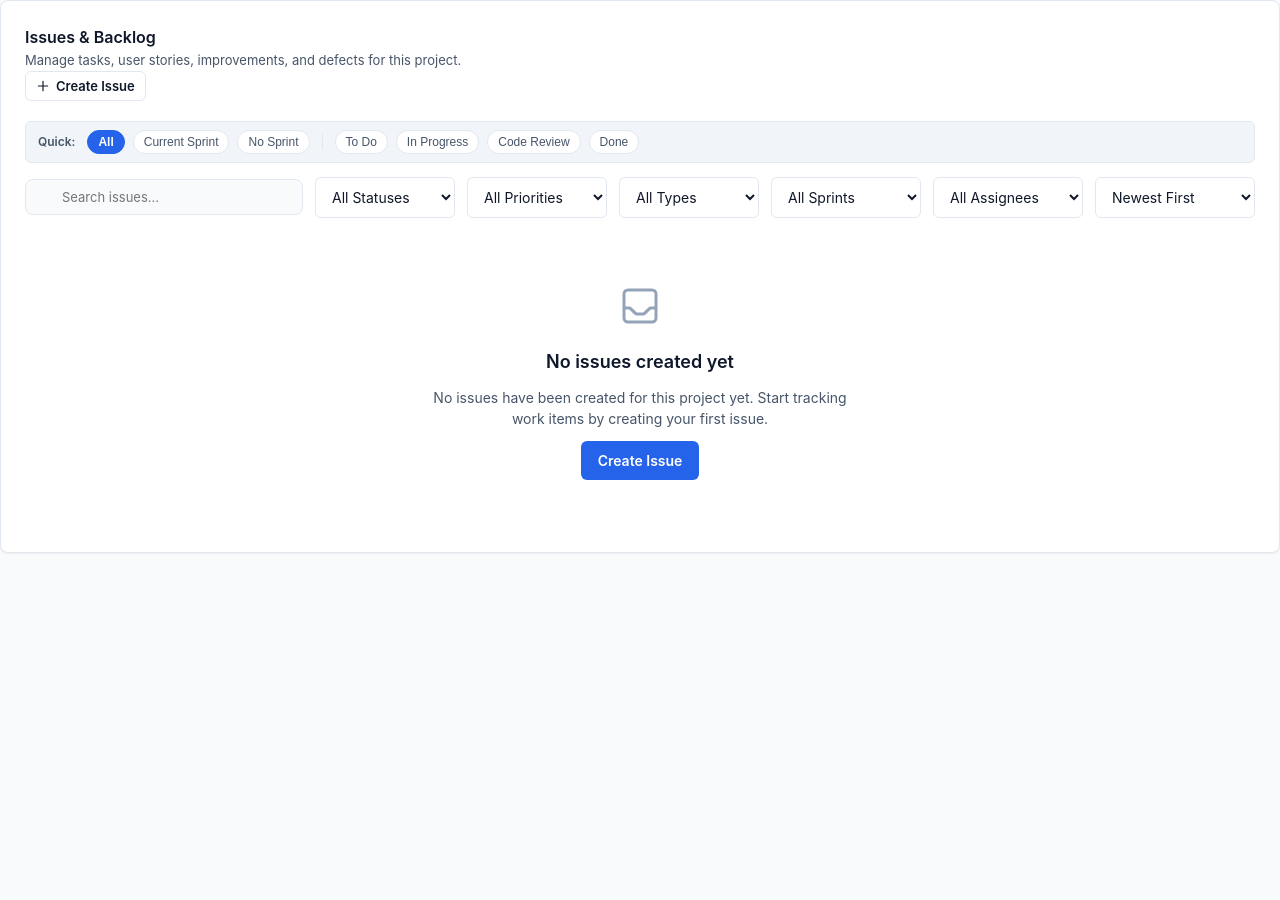
IssueList Component › opens create modal, creates an issue, and refreshes the list
The image size is (1280, 900).
Check: the heading "No issues created yet" is shown, box [546,348,734,374]
Click the button with id "btn-create-issue" at (85, 86), box [25,70,146,100]
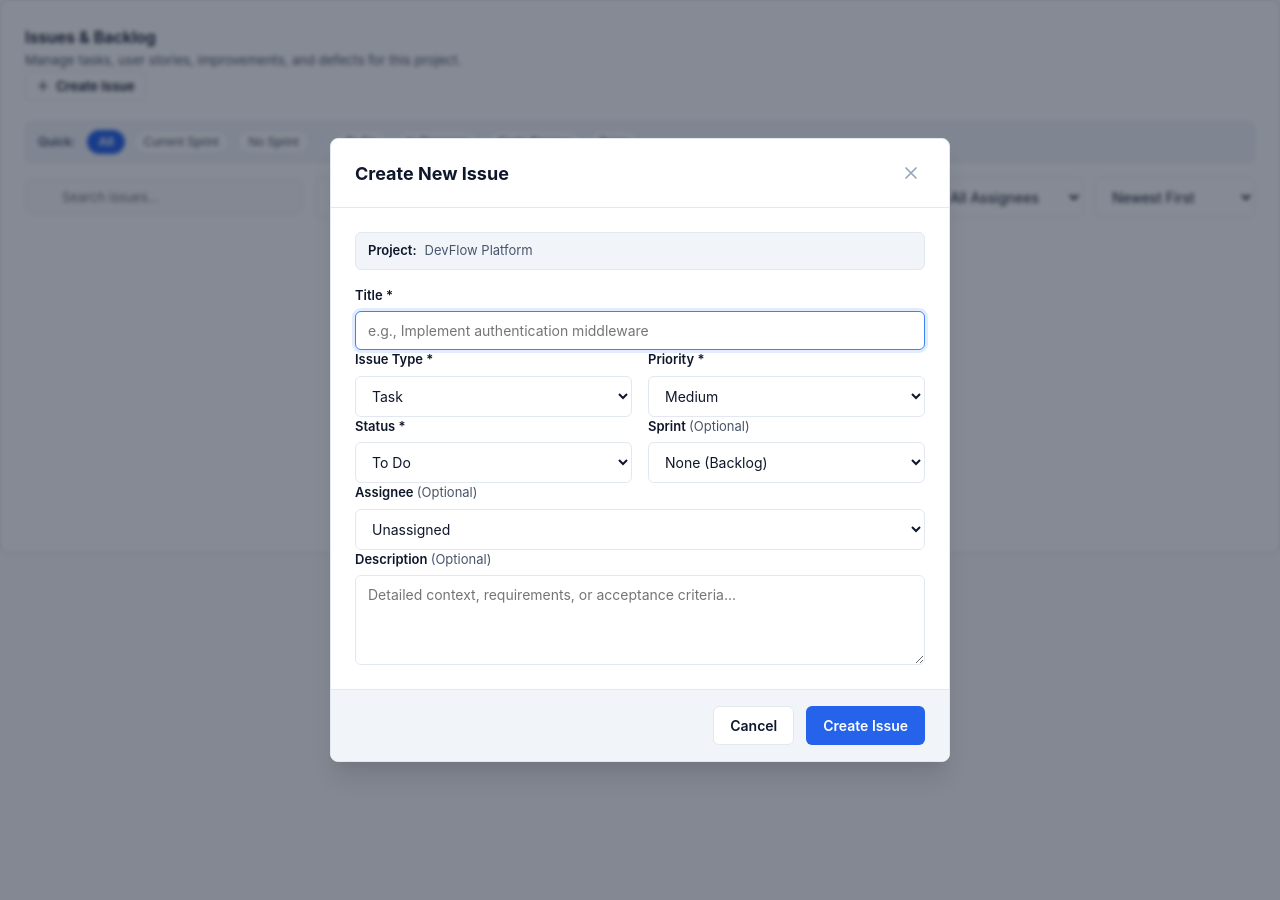
Check: the heading "Create New Issue" is shown, box [355,160,509,186]
Type "Fix issue filtering bug" into the field with id "issue-title" at (640, 330), box [355,311,925,350]
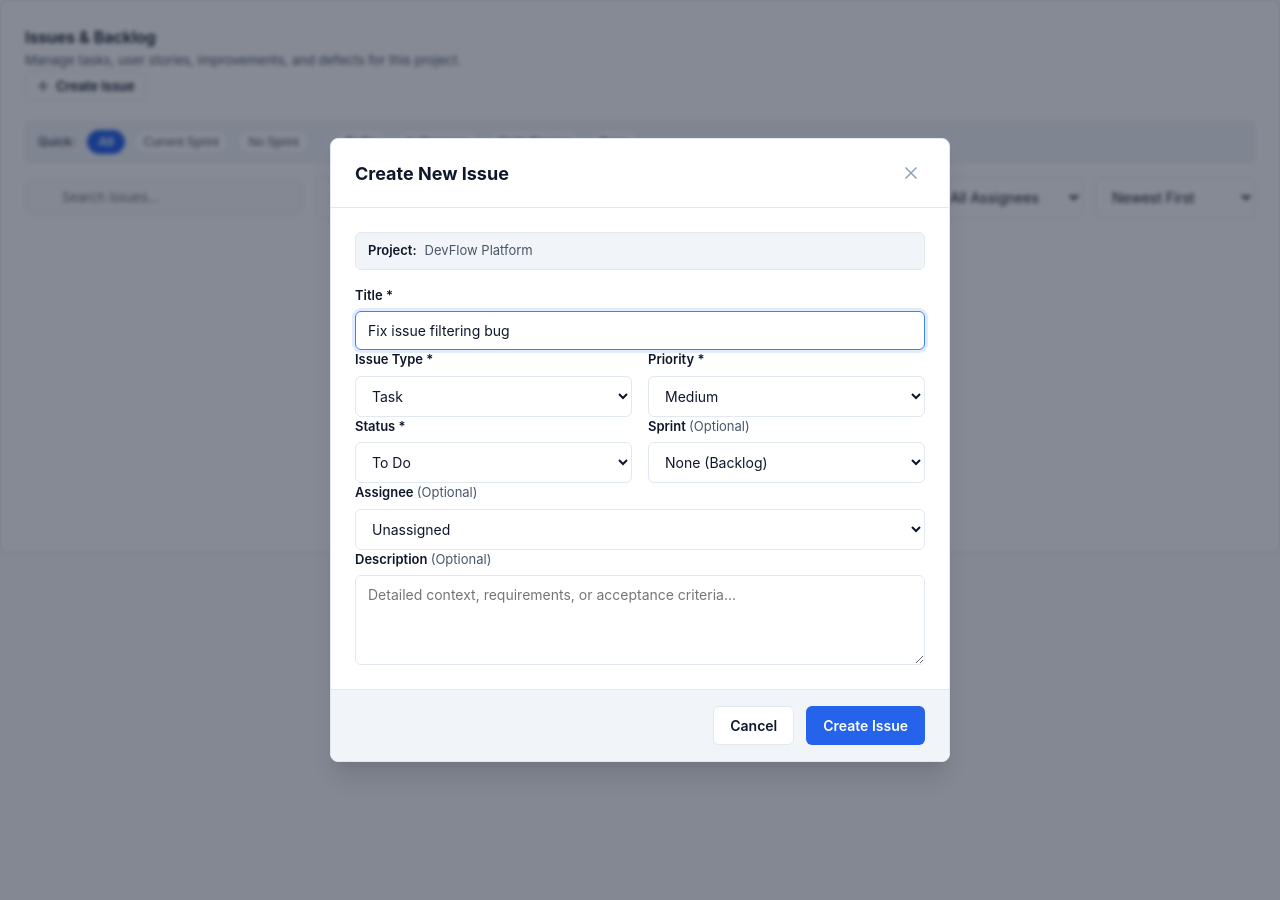
Select "Bug" in the dropdown with id "issue-type" at (494, 396), box [355,376,632,416]
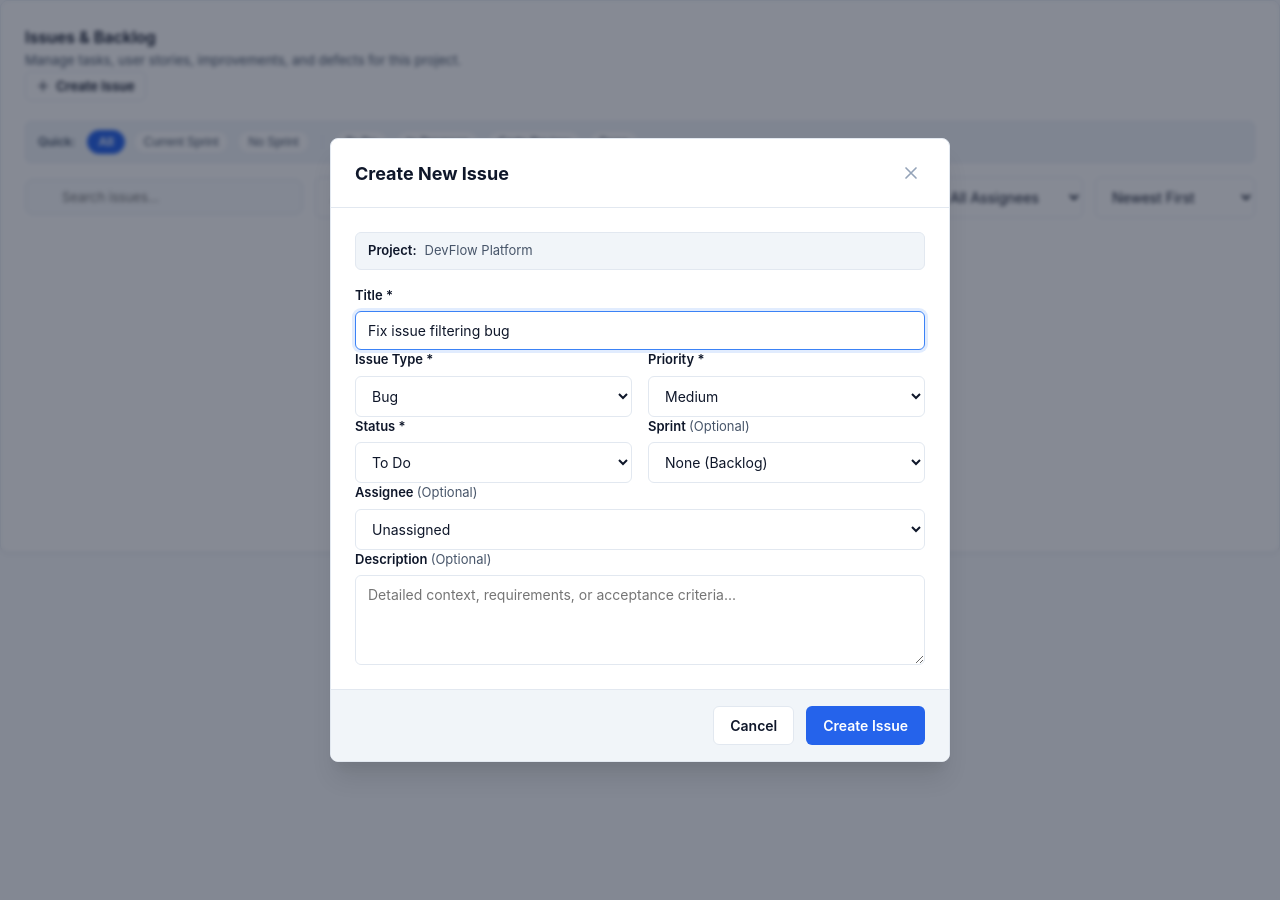
Select "High" in the dropdown with id "issue-priority" at (786, 396), box [648,376,925,416]
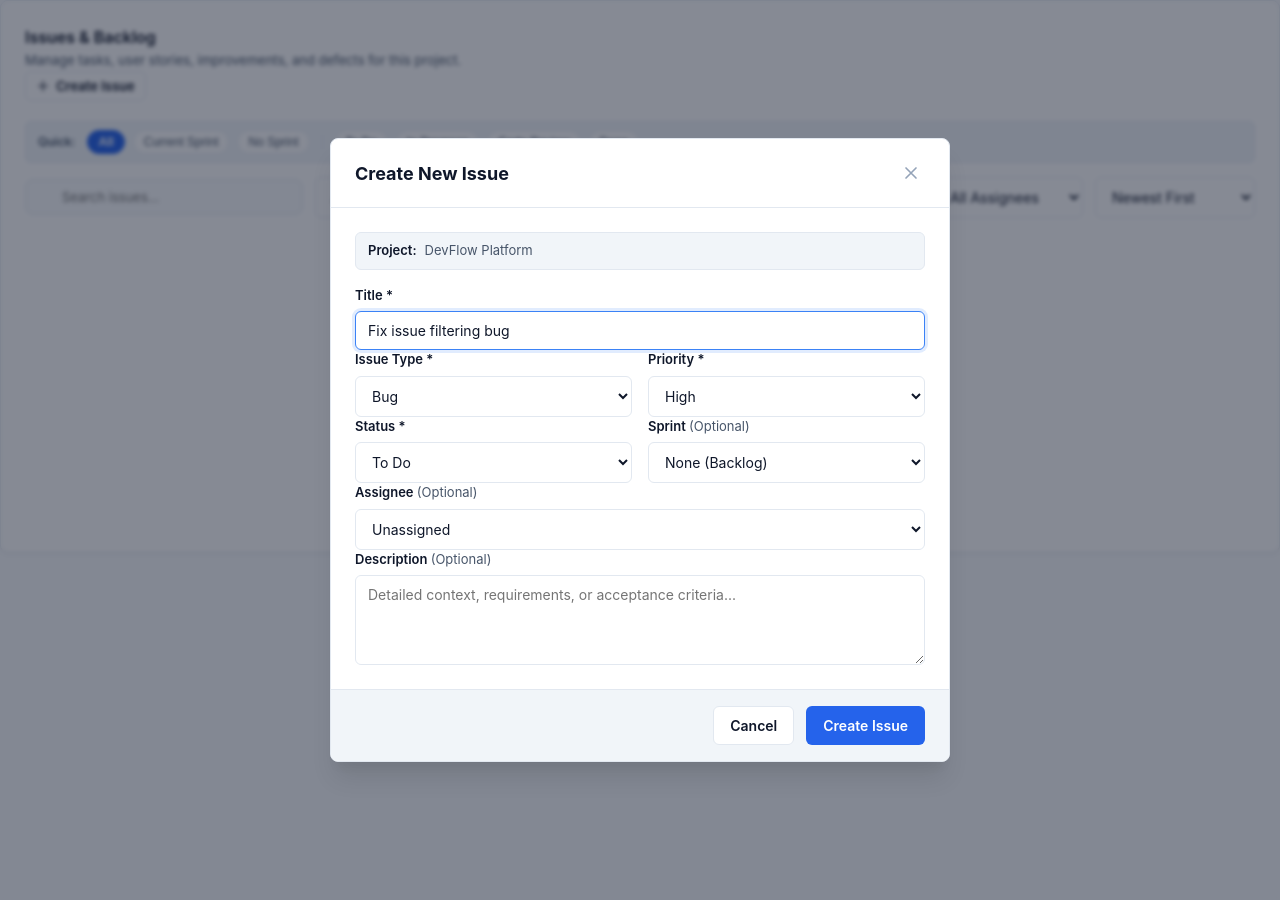
Select "In Progress" in the dropdown with id "issue-status" at (494, 462), box [355,442,632,483]
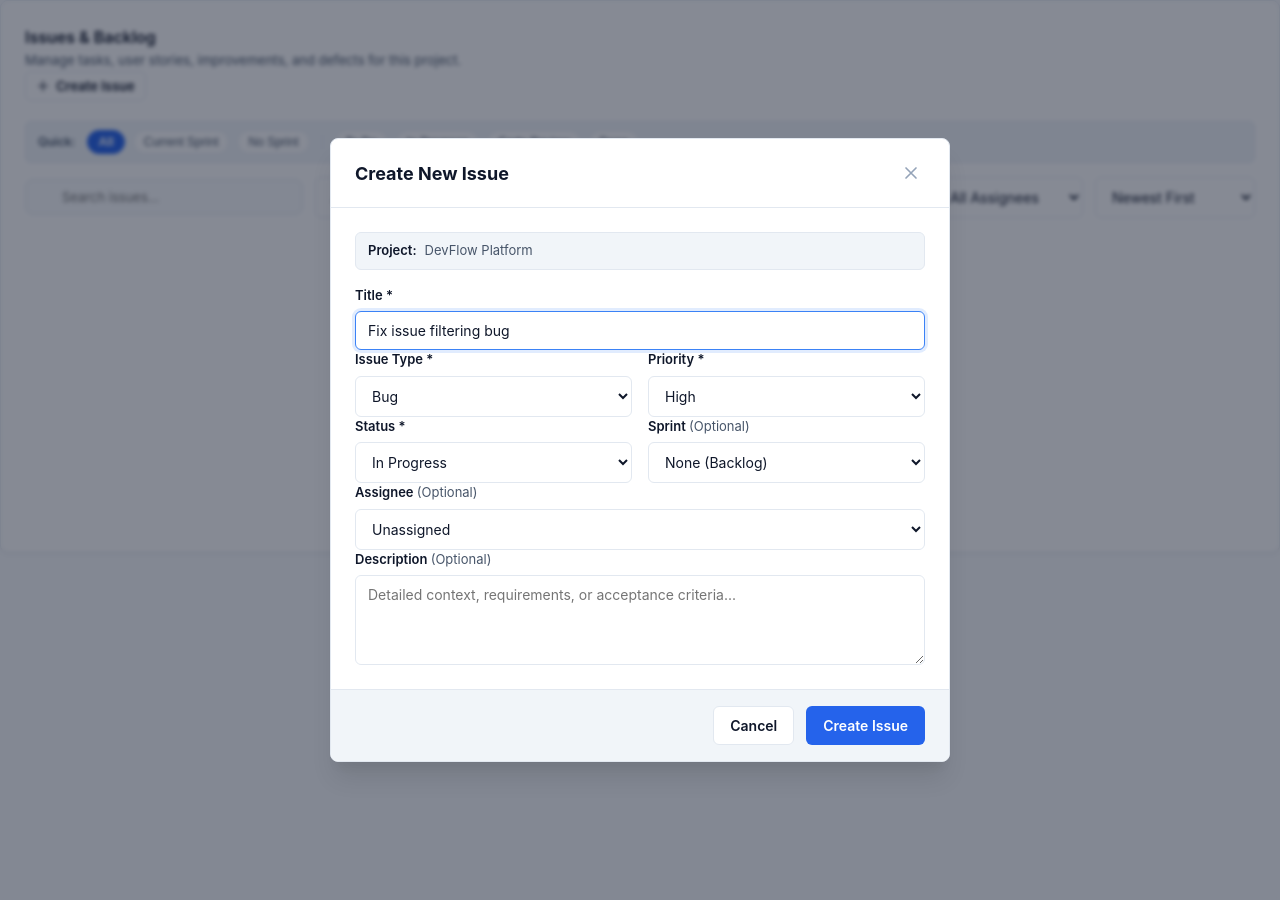
Note: Modal submit button is labeled 'Create Issue'
Click the button "Create Issue" at (866, 726), box [806,706,925,745]
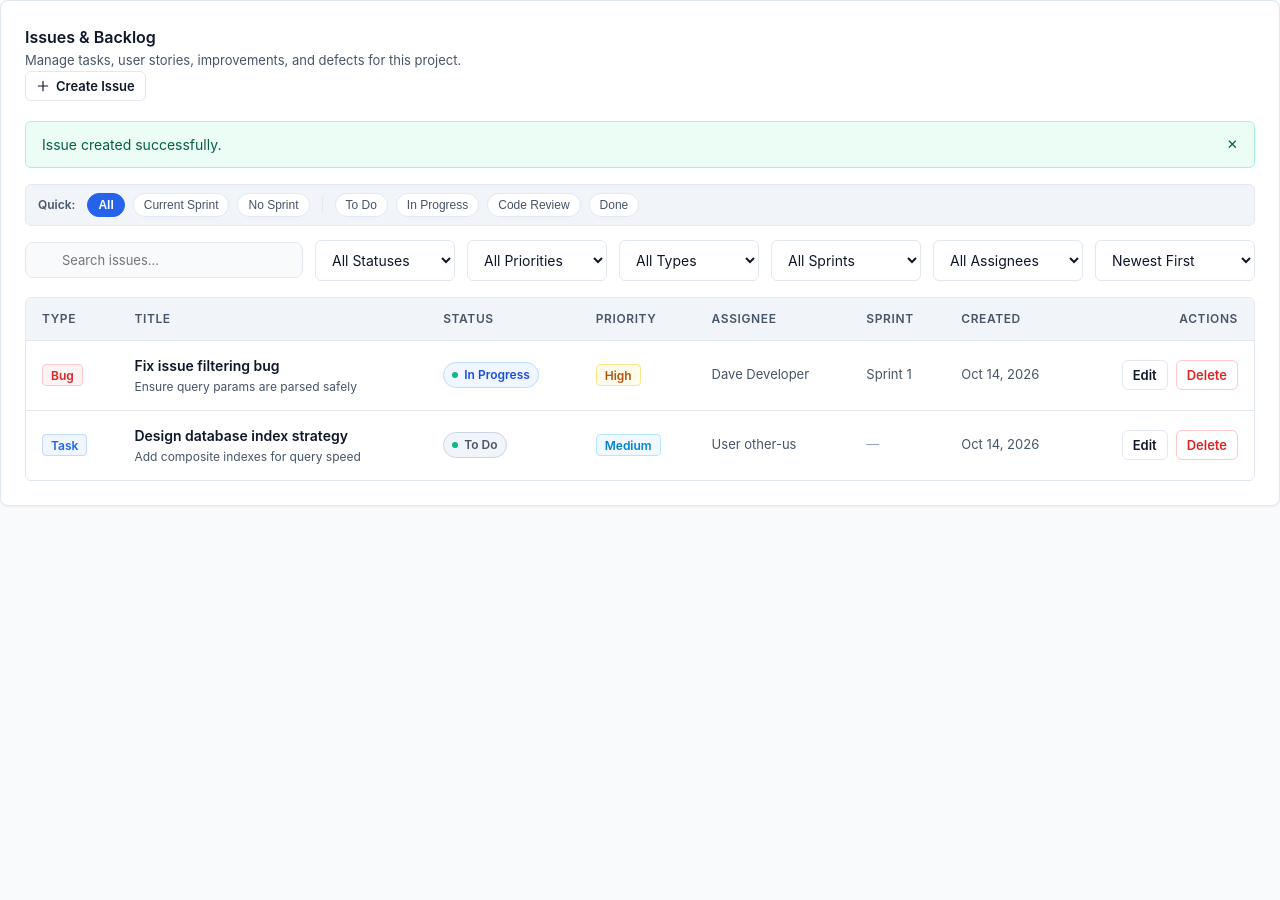
Check: the text "Issue created successfully." is shown, box [42,134,221,154]
